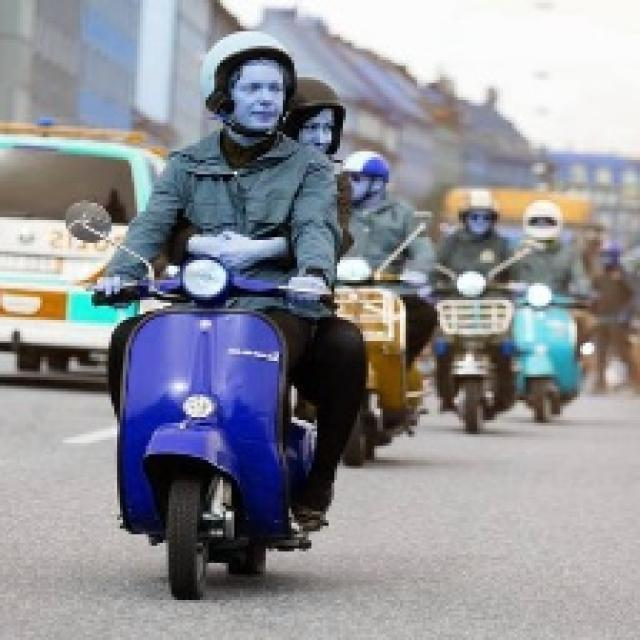motorcycle: (106, 274, 311, 612), (335, 270, 424, 460), (434, 272, 511, 438), (515, 297, 574, 426)
